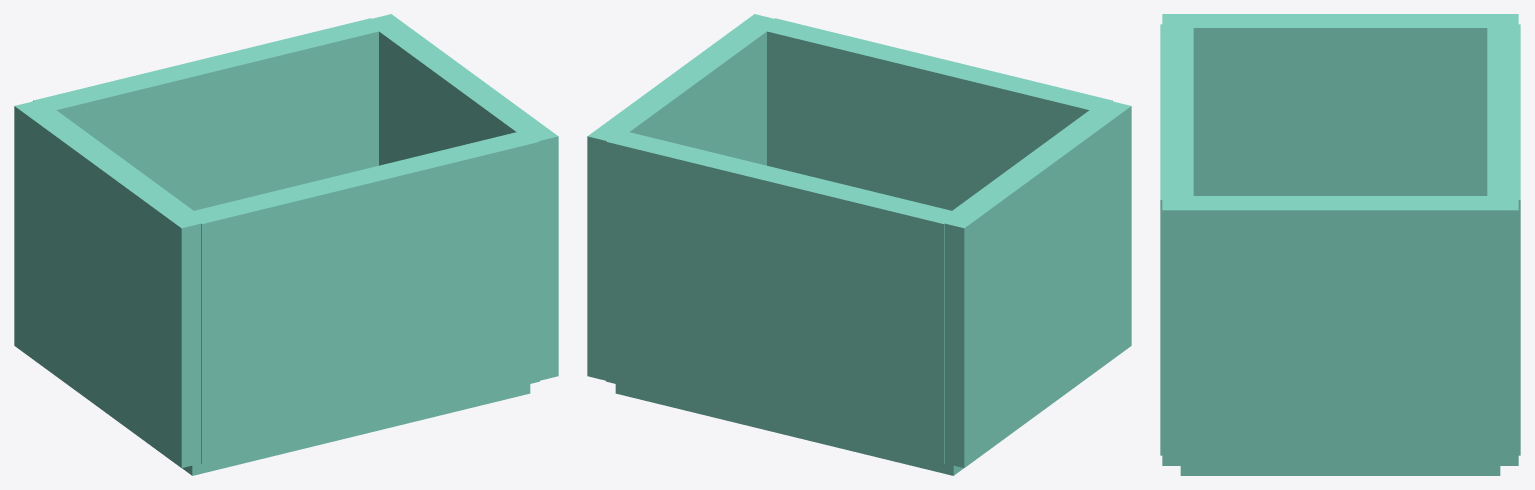
The picture shows the model from 3 angles, left to right: view 1: azimuth 30°, elevation 25°; view 2: azimuth 150°, elevation 25°; view 3: azimuth 270°, elevation 25°; orthographic projection. The views are drawn at different scales.
Parts seen in each view (by area): view 1: Bin end, Bin side, Bin end.001, Bin side.001, Bin bottom; view 2: Bin end.001, Bin side, Bin end, Bin side.001, Bin bottom; view 3: Bin side.001, Bin side, Bin end, Bin end.001, Bin bottom.
Boxes of the visible parts, x1,y1,x2,y2 form: Bin end: [187, 130, 539, 463]; Bin side: [14, 101, 207, 467]; Bin end.001: [33, 18, 385, 210]; Bin side.001: [365, 14, 558, 380]; Bin bottom: [182, 384, 530, 475]; Bin end.001: [606, 131, 958, 463]; Bin side: [938, 101, 1131, 467]; Bin end: [760, 18, 1112, 210]; Bin side.001: [587, 14, 779, 380]; Bin bottom: [615, 384, 963, 475]; Bin side.001: [1162, 196, 1518, 465]; Bin side: [1162, 14, 1518, 195]; Bin end: [1160, 24, 1193, 455]; Bin end.001: [1487, 24, 1520, 455]; Bin bottom: [1180, 466, 1500, 475].
Size of the model in its own units: 0.625 by 0.41 by 0.485.
Materials: 1 (1 with a texture image).
